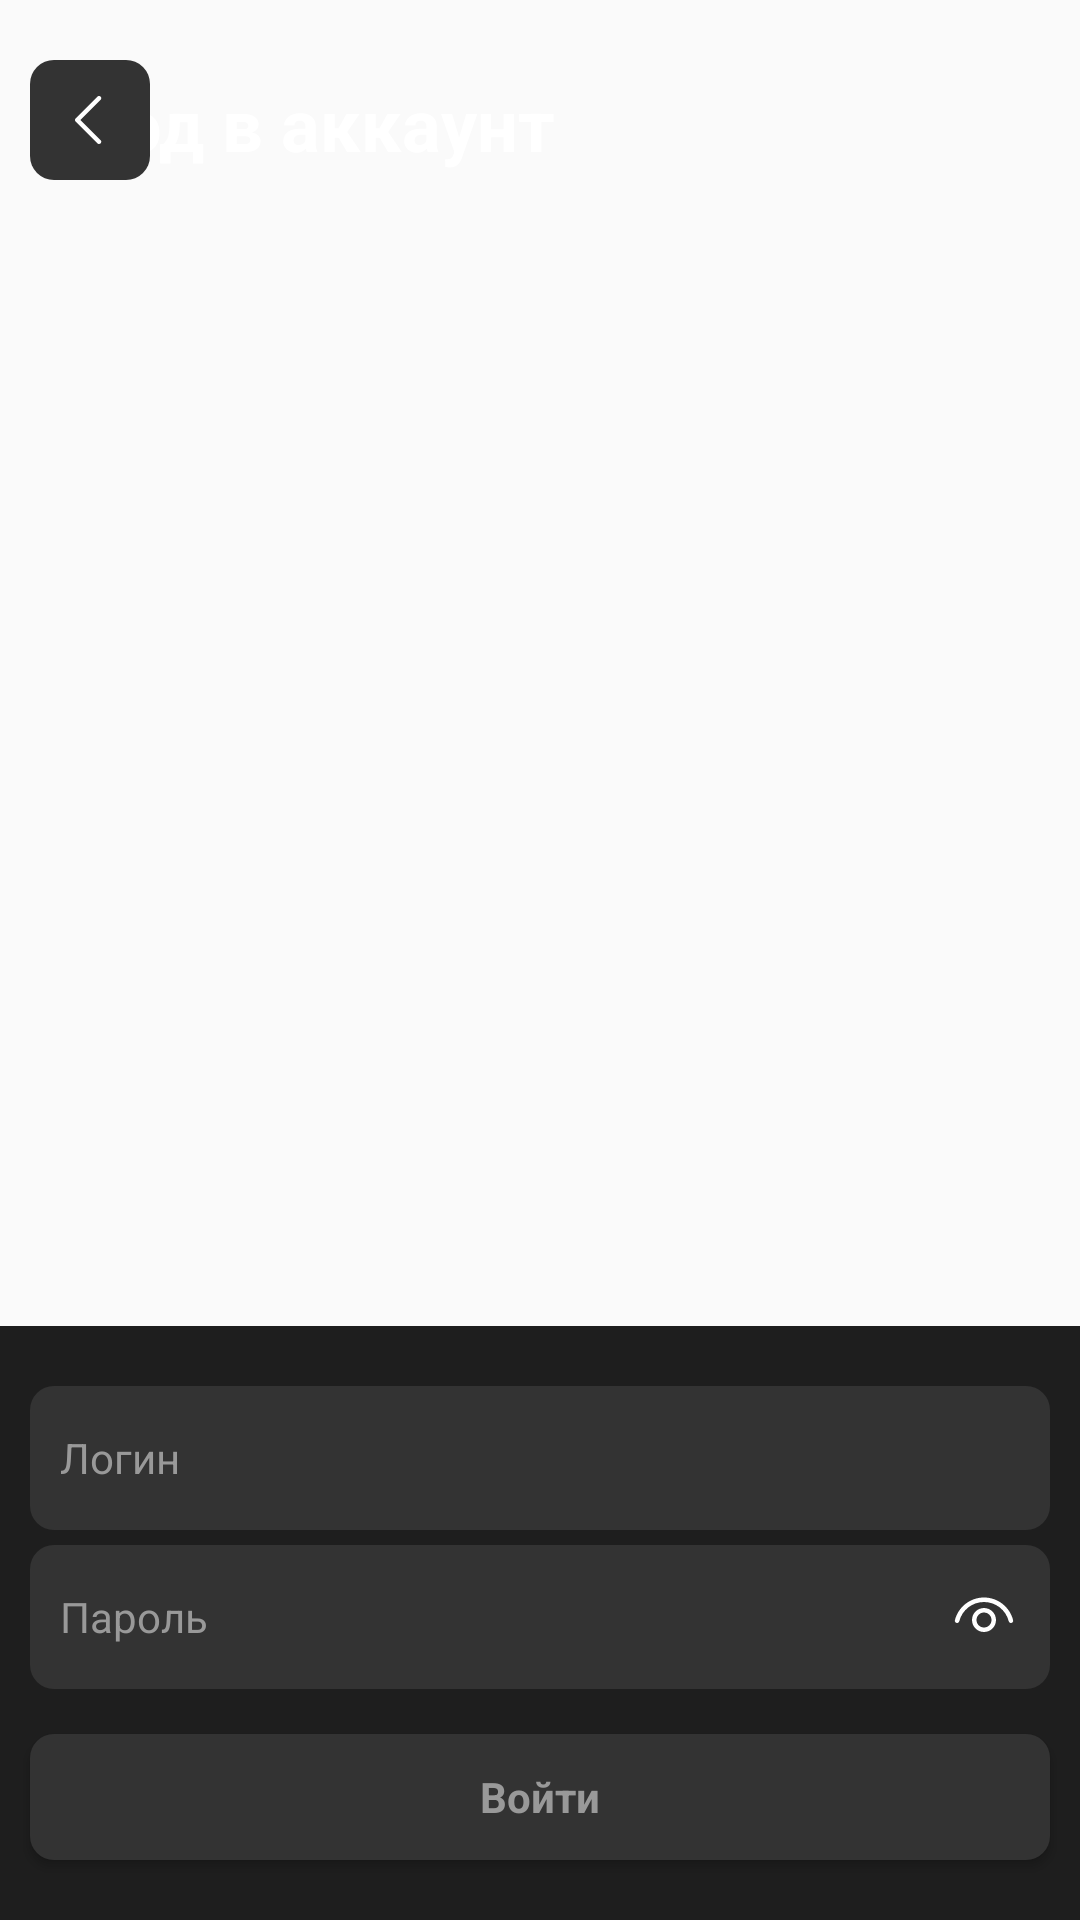

Where to tap for icons on this 1080px x 1920px app screen, as (x=x, y=y):
title chevron left: (x=90, y=120)
